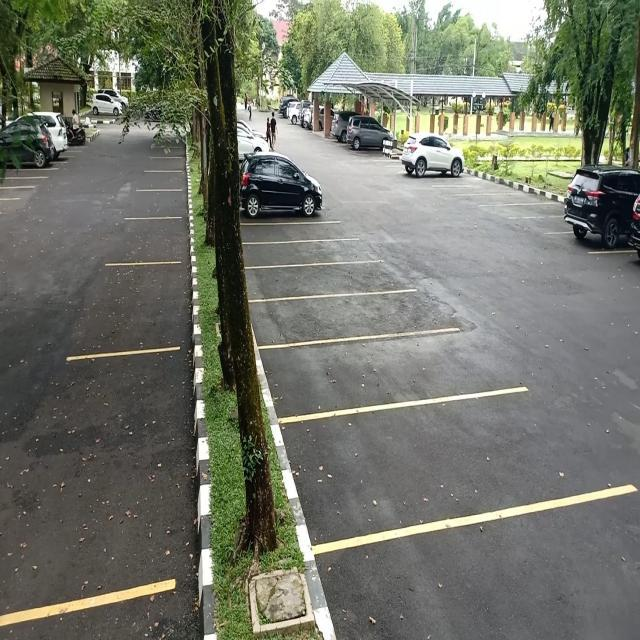empty: (42, 351, 192, 589), (293, 398, 509, 546), (270, 337, 457, 416), (254, 296, 419, 345), (103, 260, 187, 349), (247, 266, 378, 301), (123, 216, 185, 263), (244, 242, 344, 268), (240, 223, 336, 244), (131, 188, 185, 221), (478, 192, 541, 206), (510, 202, 562, 218)
occupied: (562, 192, 631, 254), (239, 181, 324, 227)
